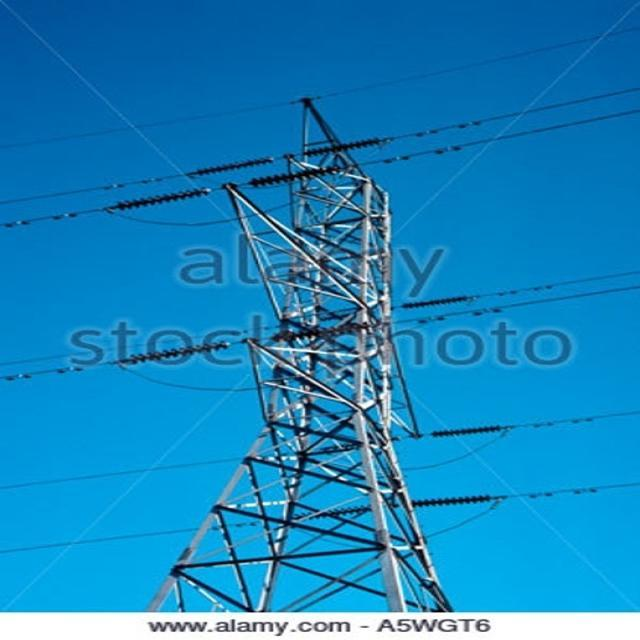non-critical vegetation: (112, 88, 520, 610)
